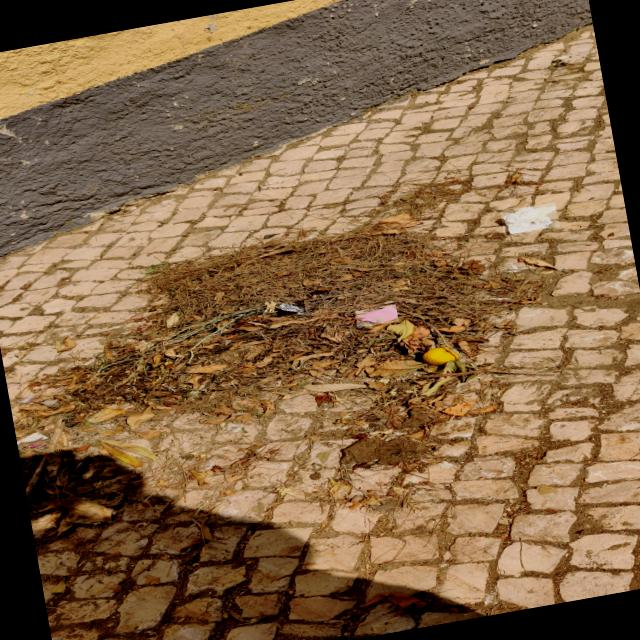Aluminium foil: (275, 302, 305, 311)
Other plastic bottle: (355, 305, 397, 324)
Paper bag: (501, 206, 555, 235)
